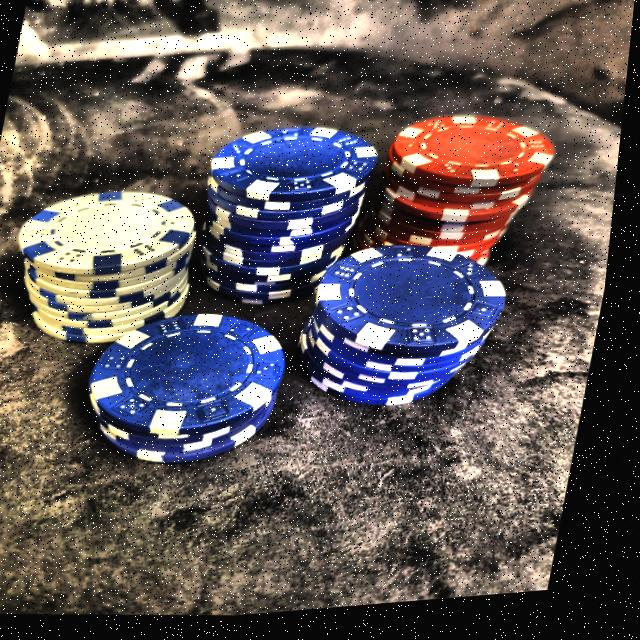Chip: (279, 215, 539, 441), (177, 96, 398, 338), (65, 288, 319, 491), (6, 151, 226, 371), (355, 82, 579, 298)
